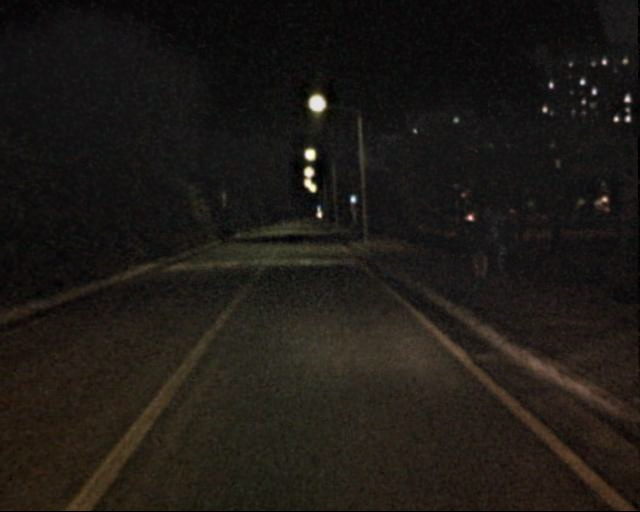person: (488, 210, 516, 278), (464, 212, 490, 276)
